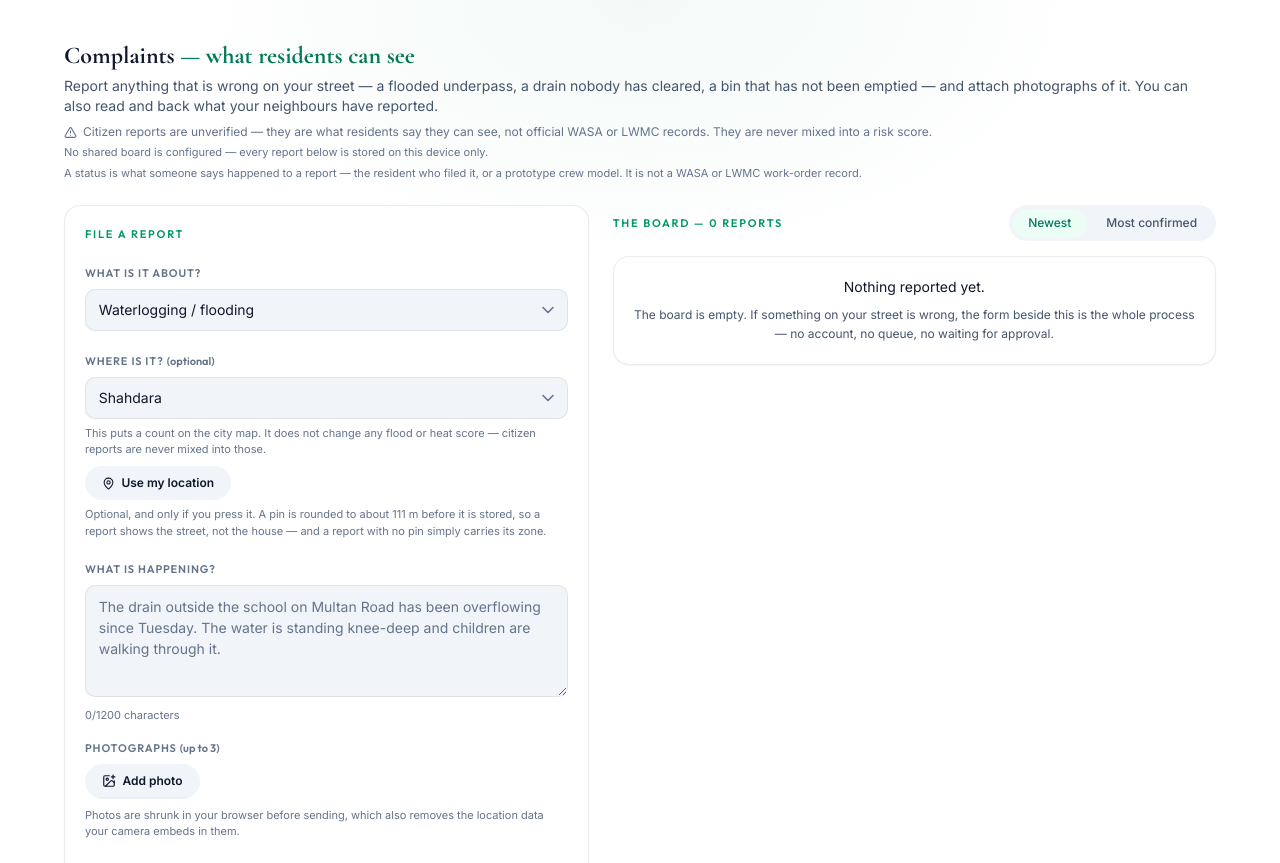
Test: ComplaintsView — the pin is opt-in, and never exact › snaps the fix to three decimals and says the pin is approximate
Click the button "Use my location". click: (158, 483)
box: top-left (85, 466), bottom-right (231, 500)
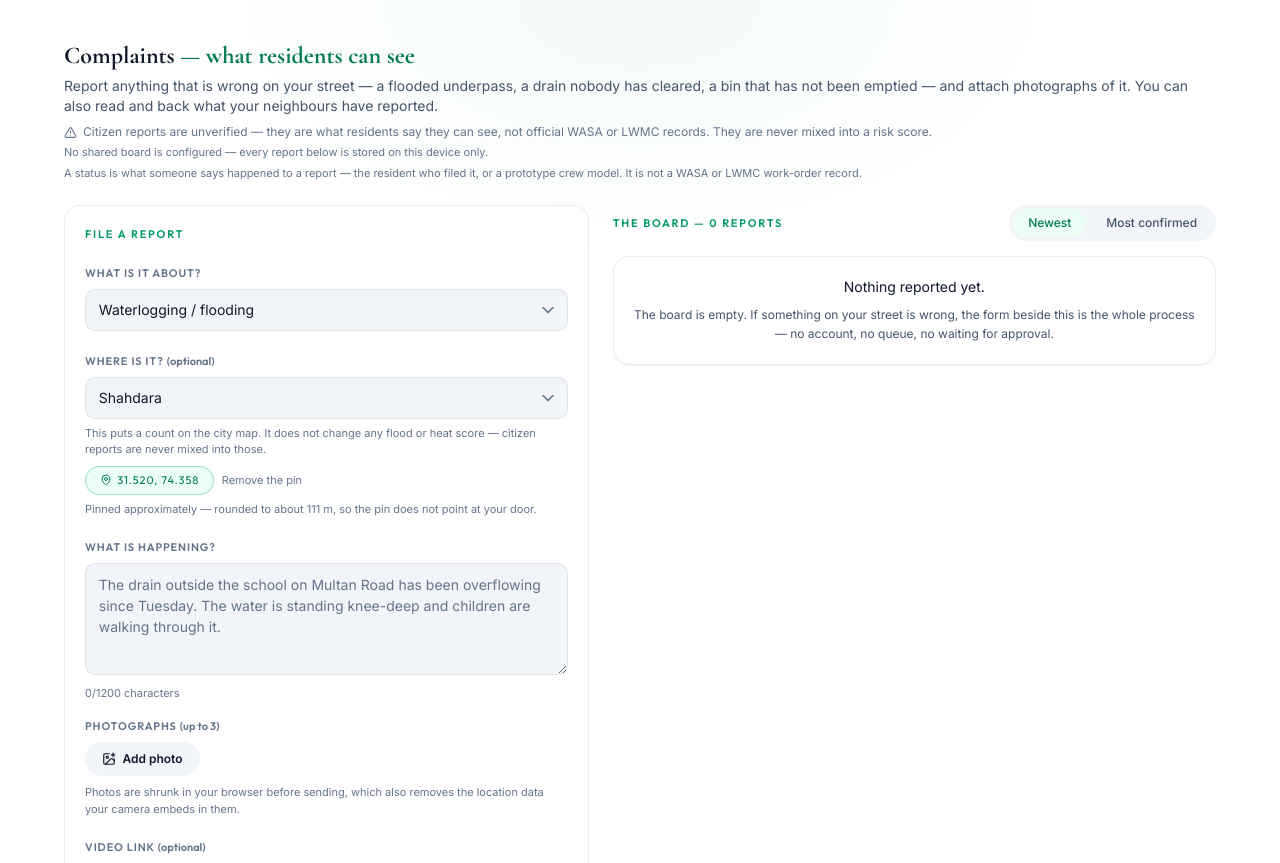
Expected: the text "31.520, 74.358" is shown, top-left (85, 466), bottom-right (214, 495)
Expected: the message shows "Pinned approximately", top-left (85, 502), bottom-right (537, 516)
Expected: the message shows "does not point at your door", top-left (85, 502), bottom-right (537, 516)
